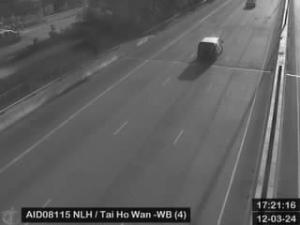vehicle: (198, 37, 222, 60), (1, 28, 18, 46), (246, 1, 256, 8)
